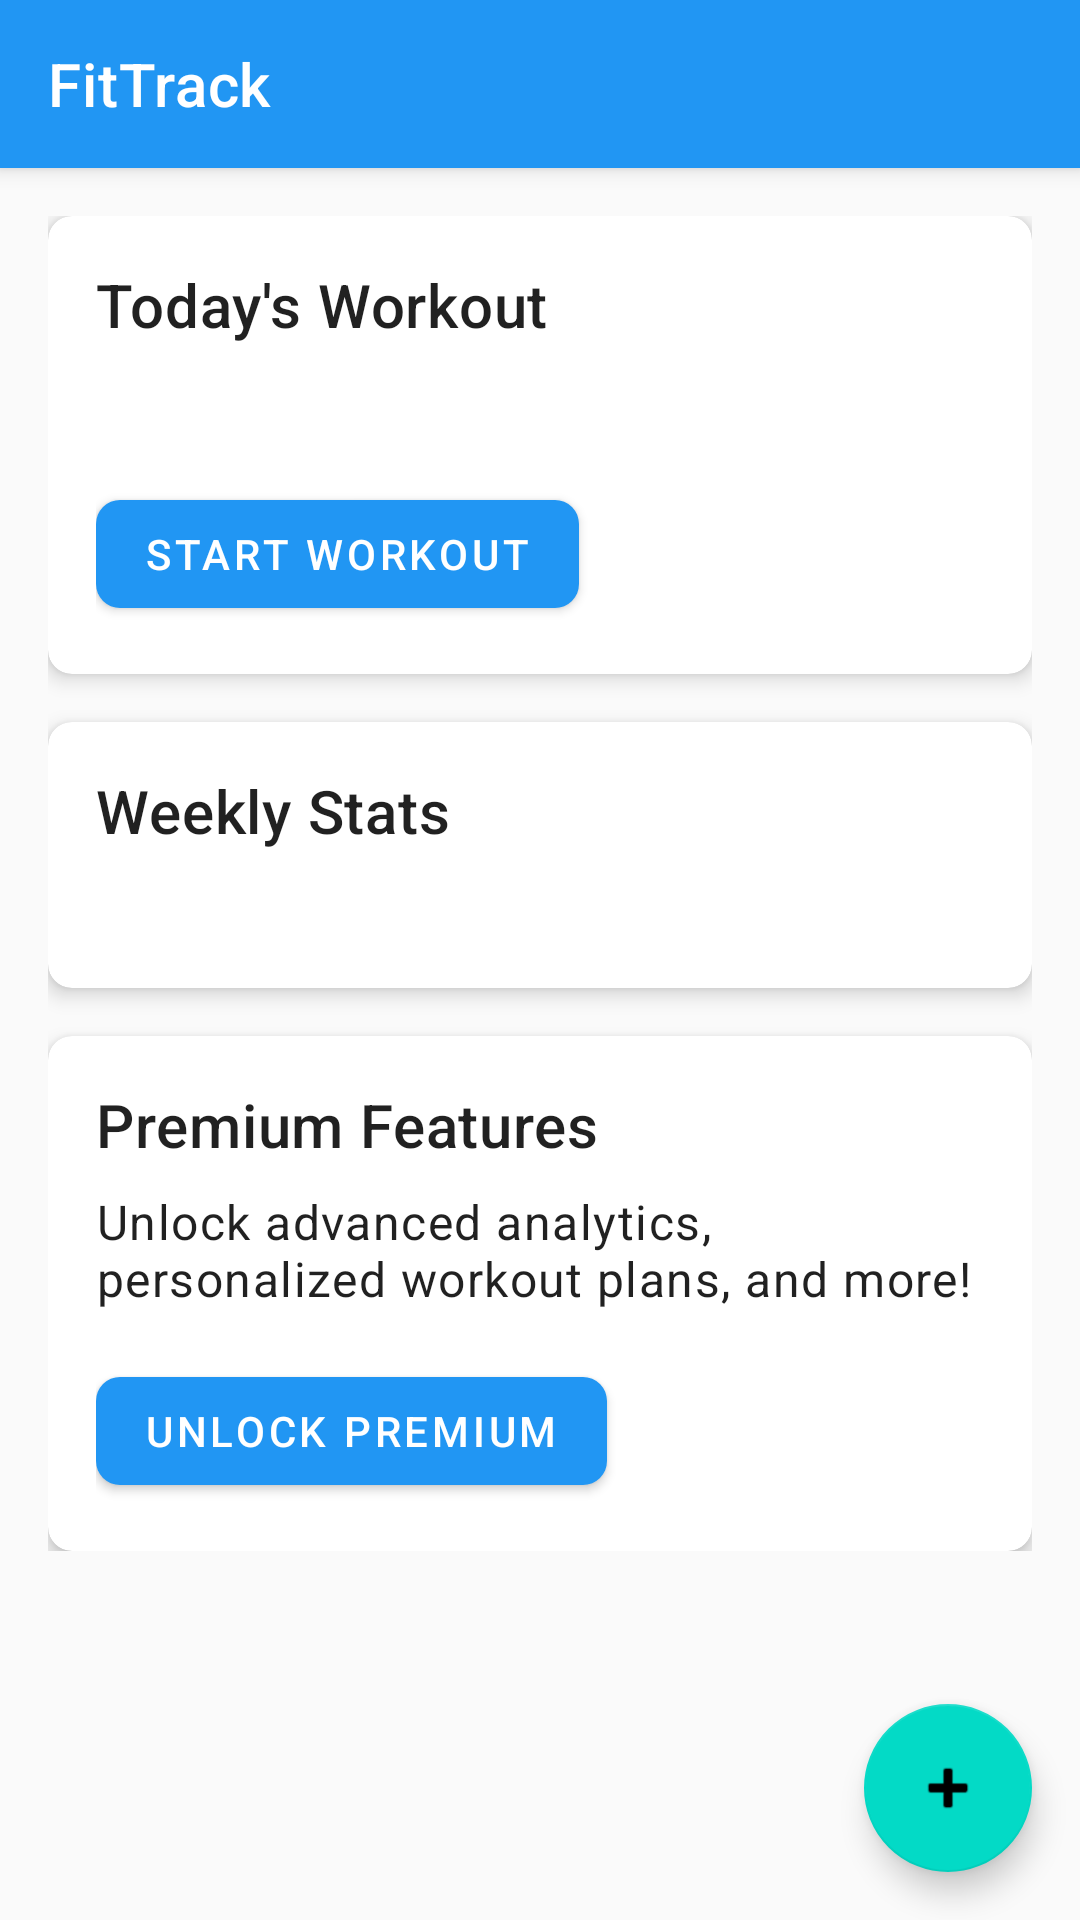

Icon click points for this 1080 × 1920 phone screenshot, format point (x, y):
Start new workout: point (948, 1788)
